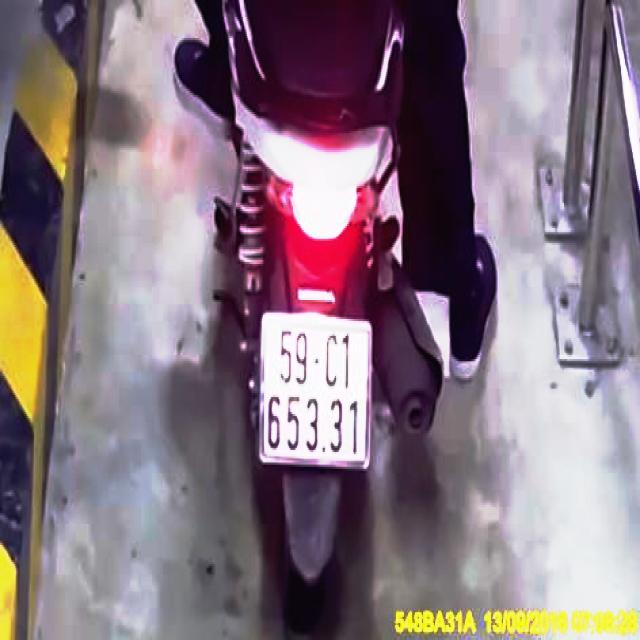license_plate: (265, 327, 368, 458)
